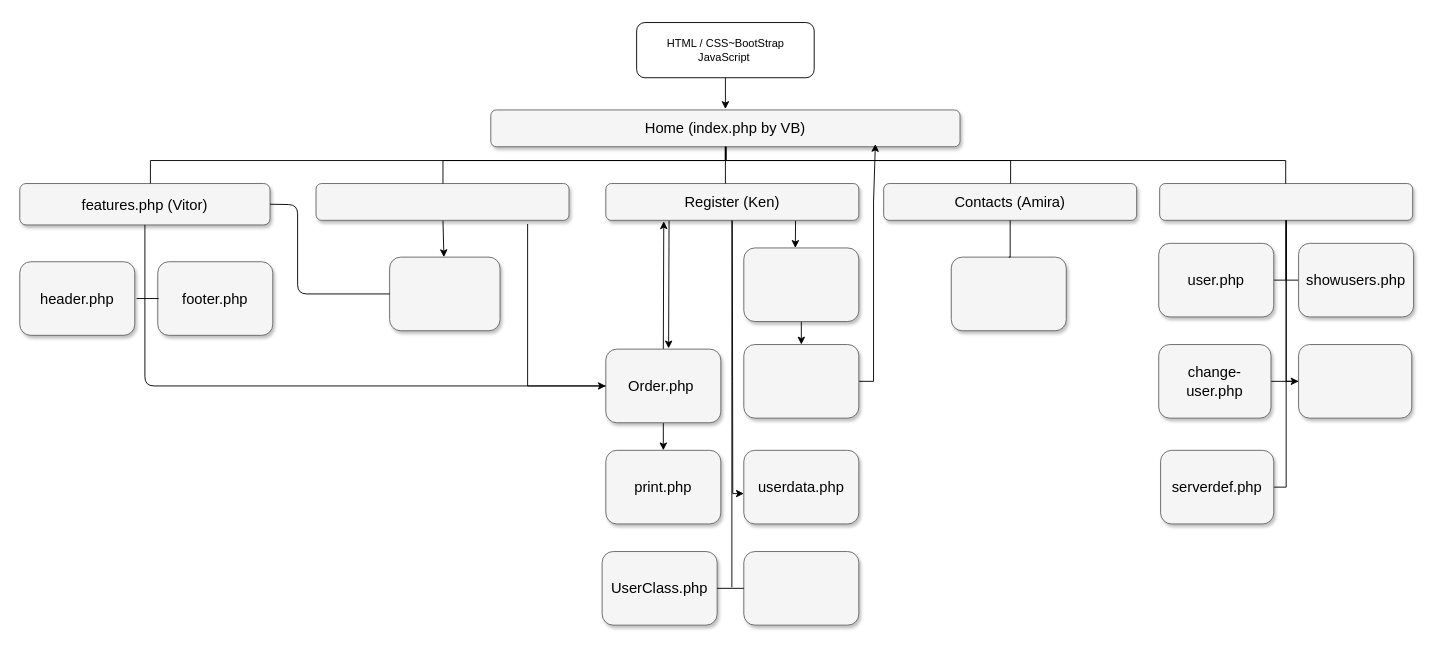
The diagram is 1435 pixels wide and 648 high, and some of its shapes have lost their labels. Here are the shapes that lost their labels. From the top down, the centre of each, then its label:
At [443,203]: "Packages (Dina)".
At [1286,203]: "Dash.php (Vitor)".
At [445,295]: "team2 Database .sql".
At [801,285]: "login.php".
At [1009,295]: "Contactspull.php ~DB".
At [801,382]: "logout.php".
At [1355,382]: "queries.php".
At [801,589]: "showuser- guest.php".
